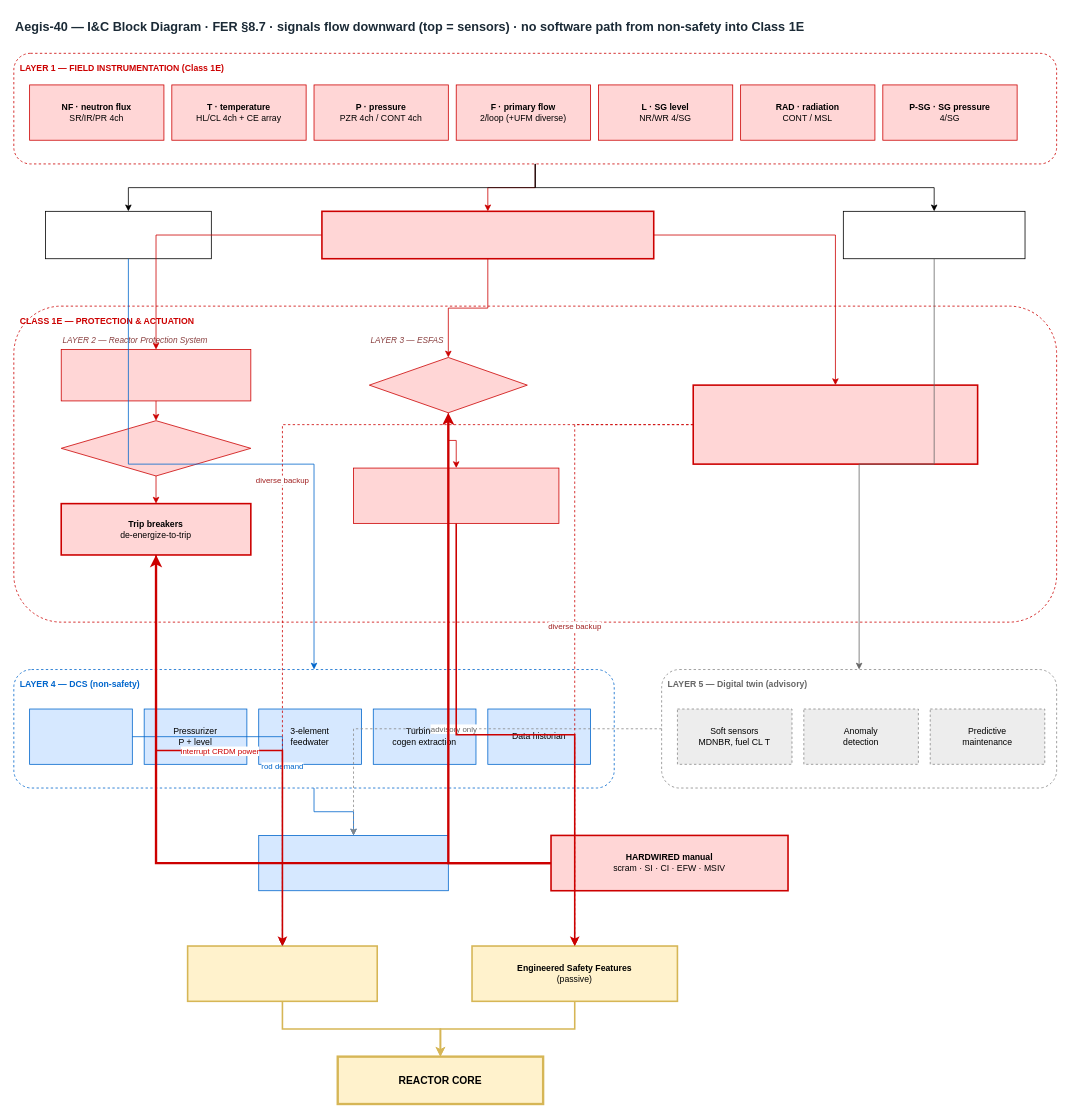
The diagram is 1070 pixels wide and 1119 high, and some of its shapes have lost their labels. Here are the shapes that lost their labels. From the top down, the centre of each, then its label:
At (x=128, y=235): "Qualified isolation one-way analog/optical".
At (x=487, y=234): "Safety signal distribution hardwired · 4 independent divisions A–D".
At (x=934, y=235): "DATA DIODE one-way, no return path".
At (x=155, y=375): "Divisions A/B/C/D signal cond. + bistable".
At (x=448, y=385): "2-of-4 voter".
At (x=835, y=424): "DIVERSE ACTUATION SYSTEM diverse platform · flux + PZR P backup trip + SI/PRHR".
At (x=155, y=448): "2-of-4 coincidence voter".
At (x=456, y=495): "SI · CI · EFW · PRHR · MSI passive ESF actuation".
At (x=80, y=736): "Reactor power (rod position)".
At (x=353, y=863): "Operator HMI SPDS / CSF display".
At (x=282, y=973): "Control Rod Drives scram on de-energize".
